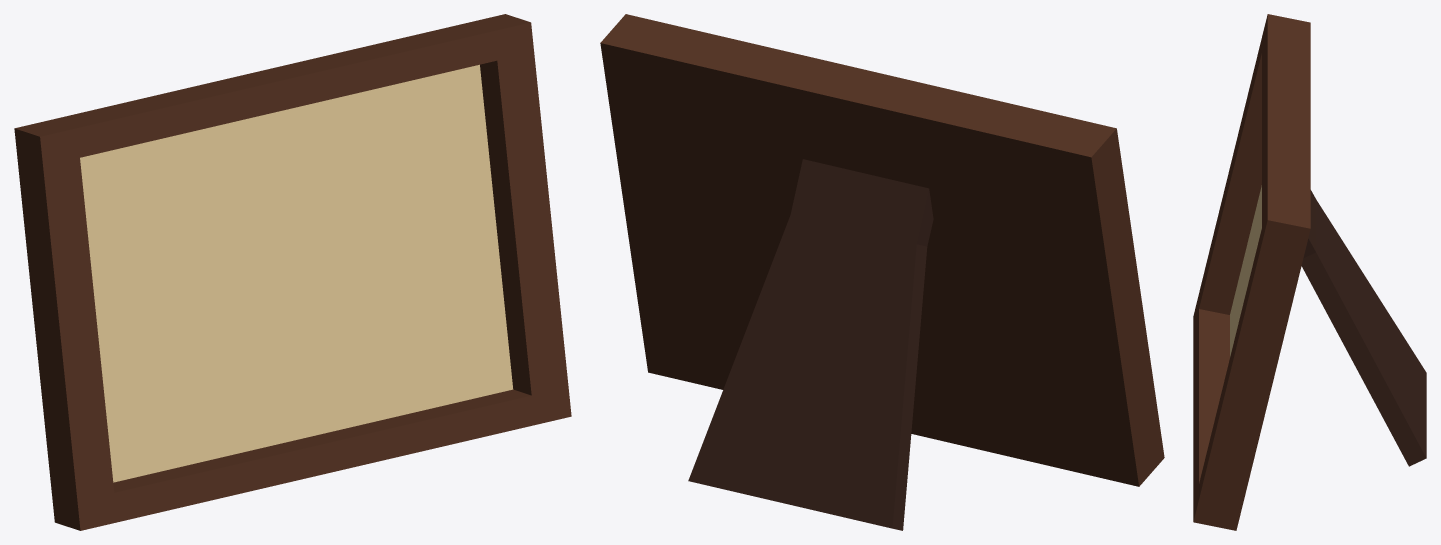
Rendered from cadre.fbx.
The picture shows the model from 3 angles, left to right: view 1: azimuth 30°, elevation 25°; view 2: azimuth 150°, elevation 25°; view 3: azimuth 270°, elevation 25°; orthographic projection. The views are drawn at different scales.
Parts seen in each view (by area): view 1: Cube; view 2: Cube, Cube.001; view 3: Cube, Cube.001.
Boxes of the visible parts, x1,y1,x2,y2 form: Cube: (14, 14, 571, 530); Cube: (600, 14, 1164, 486); Cube.001: (688, 159, 933, 530); Cube: (1193, 14, 1310, 530); Cube.001: (1301, 190, 1426, 466).
Size of the model in its own units: 169 by 123 by 81.9.
